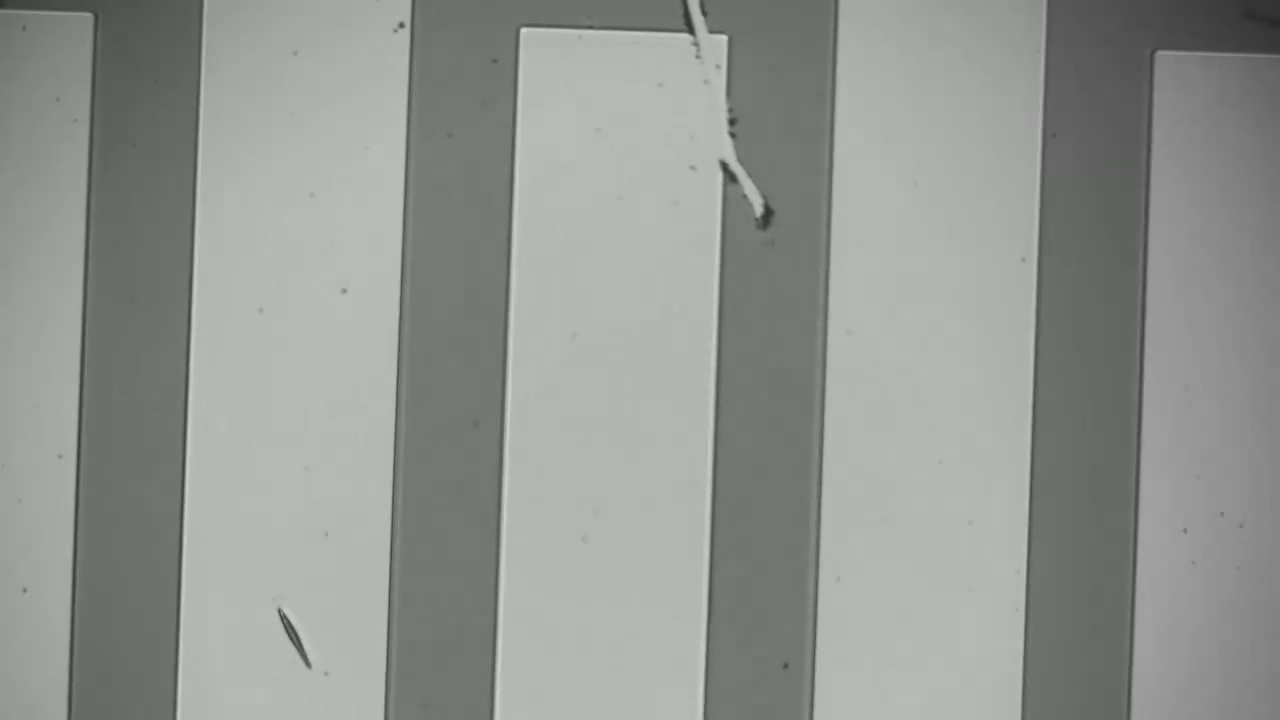Short_circuit: (670, 1, 729, 54)
